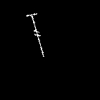treble_crochet: (27, 14, 42, 52)
